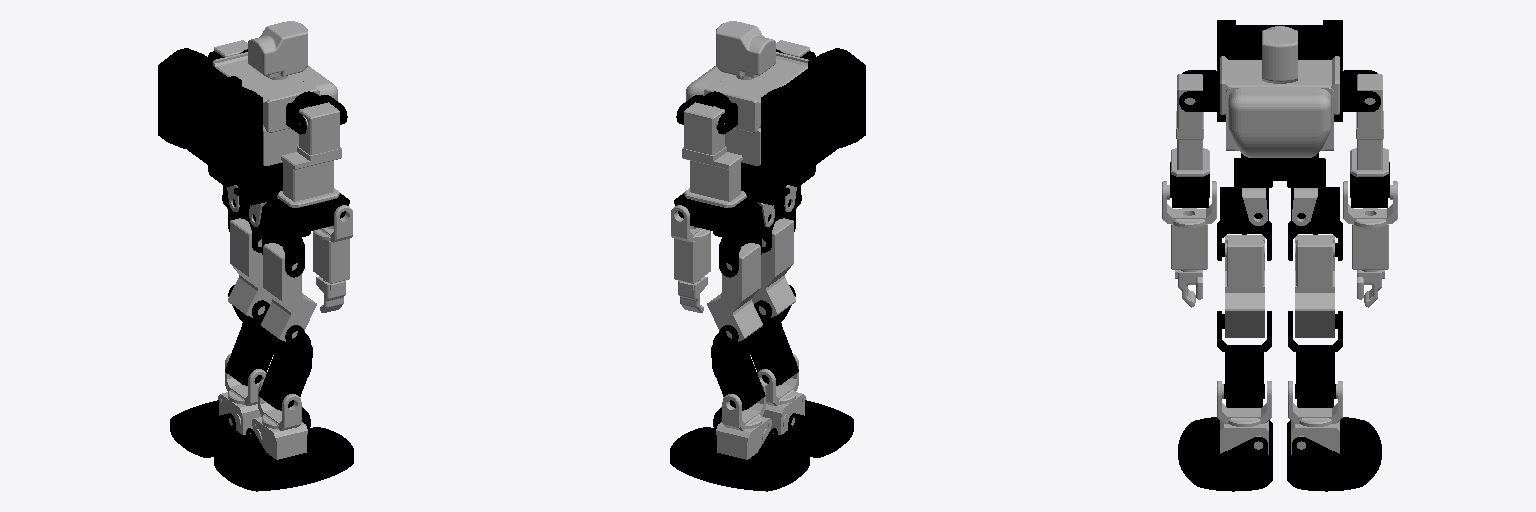
--- What the picture shows (computed from the rendered views, not written in the file) ---
The picture shows the robot from 3 angles, left to right: view 1: azimuth 30°, elevation 25°; view 2: azimuth 150°, elevation 25°; view 3: azimuth 270°, elevation 25°; orthographic projection.
Robot: khr3_001 — 26 links, 25 joints (22 revolute, 3 fixed); root link base_footprint; default pose: every joint at zero.
Links seen in each view (by area): view 1: c_chest_b, r_foot, r_upperarm, r_upperleg, r_lowerarm, l_foot, r_lowerleg, c_head_a, c_chest_c, r_ankle, l_upperleg, l_lowerleg (+7 smaller); view 2: c_chest_b, l_foot, l_upperarm, l_upperleg, l_lowerarm, r_foot, l_lowerleg, c_chest_c, c_head_a, l_ankle, r_upperleg, r_lowerleg (+7 smaller); view 3: c_chest_a, l_foot, r_foot, l_upperleg, r_upperleg, c_chest_b, l_lowerarm, r_lowerarm, l_lowerleg, r_lowerleg, c_chest_c, base_link (+13 smaller).
Link boxes in pixels (x1,y1,x2,y2): c_chest_b: (158,48,262,184); r_foot: (214,427,353,491); r_upperarm: (277,102,341,207); r_upperleg: (261,243,316,341); r_lowerarm: (313,205,352,312); l_foot: (170,400,310,457); r_lowerleg: (258,310,312,410); c_head_a: (248,21,307,79); c_chest_c: (213,52,319,132); r_ankle: (252,378,307,459); l_upperleg: (228,218,271,317); l_lowerleg: (225,285,275,385); c_chest_b: (761,48,865,184); l_foot: (670,427,809,491); l_upperarm: (682,102,746,207); l_upperleg: (707,243,762,341); l_lowerarm: (671,205,710,312); r_foot: (713,400,853,457); l_lowerleg: (711,310,765,410); c_chest_c: (704,52,808,132); c_head_a: (716,21,775,79); l_ankle: (716,378,771,459); r_upperleg: (752,218,795,317); r_lowerleg: (748,285,798,385); c_chest_a: (1226,87,1333,157); l_foot: (1287,417,1381,491); r_foot: (1178,417,1272,491); l_upperleg: (1295,235,1334,337); r_upperleg: (1225,235,1264,337); c_chest_b: (1217,20,1342,121); l_lowerarm: (1343,181,1397,307); r_lowerarm: (1162,181,1216,307); l_lowerleg: (1288,311,1342,407); r_lowerleg: (1217,311,1271,407); c_chest_c: (1220,56,1339,150); base_link: (1234,153,1325,187).
Size in the robot's own frame: 0.1356 by 0.1943 by 0.3987 metres.
25 mesh visuals loaded from 25 distinct referenced files (25 binary STL).

robot.urdf — khr3_001:
<?xml version="1.0" ?>
<!-- =================================================================================== -->
<!-- |    This document was autogenerated by xacro from khr3_001b.xacro                | -->
<!-- |    EDITING THIS FILE BY HAND IS NOT RECOMMENDED                                 | -->
<!-- =================================================================================== -->
<robot name="khr3_001">
  <material name="silver">
    <color rgba="0.700 0.700 0.700 1.000"/>
  </material>
  <material name="white">
    <color rgba="1.0 1.0 1.0 1.0"/>
  </material>
  <material name="black">
    <color rgba="0.0 0.0 0.0 1.0"/>
  </material>
  <transmission name="c_chest_yaw_tran" type="SimpleTransmission">
    <type>transmission_interface/SimpleTransmission</type>
    <joint name="c_chest_yaw">
      <hardwareInterface>hardware_interface/PositionJointInterface</hardwareInterface>
    </joint>
    <actuator name="c_chest_yaw_actr">
      <hardwareInterface>hardware_interface/PositionJointInterface</hardwareInterface>
      <mechanicalReduction>1</mechanicalReduction>
    </actuator>
  </transmission>
  <transmission name="c_head_yaw_tran" type="SimpleTransmission">
    <type>transmission_interface/SimpleTransmission</type>
    <joint name="c_head_yaw">
      <hardwareInterface>hardware_interface/PositionJointInterface</hardwareInterface>
    </joint>
    <actuator name="c_head_yaw_actr">
      <hardwareInterface>hardware_interface/PositionJointInterface</hardwareInterface>
      <mechanicalReduction>1</mechanicalReduction>
    </actuator>
  </transmission>
  <transmission name="l_shoulder_pitch_tran" type="SimpleTransmission">
    <type>transmission_interface/SimpleTransmission</type>
    <joint name="l_shoulder_pitch">
      <hardwareInterface>hardware_interface/PositionJointInterface</hardwareInterface>
    </joint>
    <actuator name="l_shoulder_pitch_actr">
      <hardwareInterface>hardware_interface/PositionJointInterface</hardwareInterface>
      <mechanicalReduction>1</mechanicalReduction>
    </actuator>
  </transmission>
  <transmission name="l_shoulder_roll_tran" type="SimpleTransmission">
    <type>transmission_interface/SimpleTransmission</type>
    <joint name="l_shoulder_roll">
      <hardwareInterface>hardware_interface/PositionJointInterface</hardwareInterface>
    </joint>
    <actuator name="l_shoulder_roll_actr">
      <hardwareInterface>hardware_interface/PositionJointInterface</hardwareInterface>
      <mechanicalReduction>1</mechanicalReduction>
    </actuator>
  </transmission>
  <transmission name="l_elbow_yaw_tran" type="SimpleTransmission">
    <type>transmission_interface/SimpleTransmission</type>
    <joint name="l_elbow_yaw">
      <hardwareInterface>hardware_interface/PositionJointInterface</hardwareInterface>
    </joint>
    <actuator name="l_elbow_yaw_actr">
      <hardwareInterface>hardware_interface/PositionJointInterface</hardwareInterface>
      <mechanicalReduction>1</mechanicalReduction>
    </actuator>
  </transmission>
  <transmission name="l_elbow_pitch_tran" type="SimpleTransmission">
    <type>transmission_interface/SimpleTransmission</type>
    <joint name="l_elbow_pitch">
      <hardwareInterface>hardware_interface/PositionJointInterface</hardwareInterface>
    </joint>
    <actuator name="l_elbow_pitch_actr">
      <hardwareInterface>hardware_interface/PositionJointInterface</hardwareInterface>
      <mechanicalReduction>1</mechanicalReduction>
    </actuator>
  </transmission>
  <transmission name="r_shoulder_pitch_tran" type="SimpleTransmission">
    <type>transmission_interface/SimpleTransmission</type>
    <joint name="r_shoulder_pitch">
      <hardwareInterface>hardware_interface/PositionJointInterface</hardwareInterface>
    </joint>
    <actuator name="r_shoulder_pitch_actr">
      <hardwareInterface>hardware_interface/PositionJointInterface</hardwareInterface>
      <mechanicalReduction>1</mechanicalReduction>
    </actuator>
  </transmission>
  <transmission name="r_shoulder_roll_tran" type="SimpleTransmission">
    <type>transmission_interface/SimpleTransmission</type>
    <joint name="r_shoulder_roll">
      <hardwareInterface>hardware_interface/PositionJointInterface</hardwareInterface>
    </joint>
    <actuator name="r_shoulder_roll_actr">
      <hardwareInterface>hardware_interface/PositionJointInterface</hardwareInterface>
      <mechanicalReduction>1</mechanicalReduction>
    </actuator>
  </transmission>
  <transmission name="r_elbow_yaw_tran" type="SimpleTransmission">
    <type>transmission_interface/SimpleTransmission</type>
    <joint name="r_elbow_yaw">
      <hardwareInterface>hardware_interface/PositionJointInterface</hardwareInterface>
    </joint>
    <actuator name="r_elbow_yaw_actr">
      <hardwareInterface>hardware_interface/PositionJointInterface</hardwareInterface>
      <mechanicalReduction>1</mechanicalReduction>
    </actuator>
  </transmission>
  <transmission name="r_elbow_pitch_tran" type="SimpleTransmission">
    <type>transmission_interface/SimpleTransmission</type>
    <joint name="r_elbow_pitch">
      <hardwareInterface>hardware_interface/PositionJointInterface</hardwareInterface>
    </joint>
    <actuator name="r_elbow_pitch_actr">
      <hardwareInterface>hardware_interface/PositionJointInterface</hardwareInterface>
      <mechanicalReduction>1</mechanicalReduction>
    </actuator>
  </transmission>
  <transmission name="l_hipjoint_yaw_tran" type="SimpleTransmission">
    <type>transmission_interface/SimpleTransmission</type>
    <joint name="l_hipjoint_yaw">
      <hardwareInterface>hardware_interface/PositionJointInterface</hardwareInterface>
    </joint>
    <actuator name="l_hipjoint_yaw_actr">
      <hardwareInterface>hardware_interface/PositionJointInterface</hardwareInterface>
      <mechanicalReduction>1</mechanicalReduction>
    </actuator>
  </transmission>
  <transmission name="l_hipjoint_roll_tran" type="SimpleTransmission">
    <type>transmission_interface/SimpleTransmission</type>
    <joint name="l_hipjoint_roll">
      <hardwareInterface>hardware_interface/PositionJointInterface</hardwareInterface>
    </joint>
    <actuator name="l_hipjoint_roll_actr">
      <hardwareInterface>hardware_interface/PositionJointInterface</hardwareInterface>
      <mechanicalReduction>1</mechanicalReduction>
    </actuator>
  </transmission>
  <transmission name="l_hipjoint_pitch_tran" type="SimpleTransmission">
    <type>transmission_interface/SimpleTransmission</type>
    <joint name="l_hipjoint_pitch">
      <hardwareInterface>hardware_interface/PositionJointInterface</hardwareInterface>
    </joint>
    <actuator name="l_hipjoint_pitch_actr">
      <hardwareInterface>hardware_interface/PositionJointInterface</hardwareInterface>
      <mechanicalReduction>1</mechanicalReduction>
    </actuator>
  </transmission>
  <transmission name="l_knee_pitch_tran" type="SimpleTransmission">
    <type>transmission_interface/SimpleTransmission</type>
    <joint name="l_knee_pitch">
      <hardwareInterface>hardware_interface/PositionJointInterface</hardwareInterface>
    </joint>
    <actuator name="l_knee_pitch_actr">
      <hardwareInterface>hardware_interface/PositionJointInterface</hardwareInterface>
      <mechanicalReduction>1</mechanicalReduction>
    </actuator>
  </transmission>
  <transmission name="l_ankle_pitch_tran" type="SimpleTransmission">
    <type>transmission_interface/SimpleTransmission</type>
    <joint name="l_ankle_pitch">
      <hardwareInterface>hardware_interface/PositionJointInterface</hardwareInterface>
    </joint>
    <actuator name="l_ankle_pitch_actr">
      <hardwareInterface>hardware_interface/PositionJointInterface</hardwareInterface>
      <mechanicalReduction>1</mechanicalReduction>
    </actuator>
  </transmission>
  <transmission name="l_ankle_roll_tran" type="SimpleTransmission">
    <type>transmission_interface/SimpleTransmission</type>
    <joint name="l_ankle_roll">
      <hardwareInterface>hardware_interface/PositionJointInterface</hardwareInterface>
    </joint>
    <actuator name="l_ankle_roll_actr">
      <hardwareInterface>hardware_interface/PositionJointInterface</hardwareInterface>
      <mechanicalReduction>1</mechanicalReduction>
    </actuator>
  </transmission>
  <transmission name="r_hipjoint_yaw_tran" type="SimpleTransmission">
    <type>transmission_interface/SimpleTransmission</type>
    <joint name="r_hipjoint_yaw">
      <hardwareInterface>hardware_interface/PositionJointInterface</hardwareInterface>
    </joint>
    <actuator name="r_hipjoint_yaw_actr">
      <hardwareInterface>hardware_interface/PositionJointInterface</hardwareInterface>
      <mechanicalReduction>1</mechanicalReduction>
    </actuator>
  </transmission>
  <transmission name="r_hipjoint_roll_tran" type="SimpleTransmission">
    <type>transmission_interface/SimpleTransmission</type>
    <joint name="r_hipjoint_roll">
      <hardwareInterface>hardware_interface/PositionJointInterface</hardwareInterface>
    </joint>
    <actuator name="r_hipjoint_roll_actr">
      <hardwareInterface>hardware_interface/PositionJointInterface</hardwareInterface>
      <mechanicalReduction>1</mechanicalReduction>
    </actuator>
  </transmission>
  <transmission name="r_hipjoint_pitch_tran" type="SimpleTransmission">
    <type>transmission_interface/SimpleTransmission</type>
    <joint name="r_hipjoint_pitch">
      <hardwareInterface>hardware_interface/PositionJointInterface</hardwareInterface>
    </joint>
    <actuator name="r_hipjoint_pitch_actr">
      <hardwareInterface>hardware_interface/PositionJointInterface</hardwareInterface>
      <mechanicalReduction>1</mechanicalReduction>
    </actuator>
  </transmission>
  <transmission name="r_knee_pitch_tran" type="SimpleTransmission">
    <type>transmission_interface/SimpleTransmission</type>
    <joint name="r_knee_pitch">
      <hardwareInterface>hardware_interface/PositionJointInterface</hardwareInterface>
    </joint>
    <actuator name="r_knee_pitch_actr">
      <hardwareInterface>hardware_interface/PositionJointInterface</hardwareInterface>
      <mechanicalReduction>1</mechanicalReduction>
    </actuator>
  </transmission>
  <transmission name="r_ankle_pitch_tran" type="SimpleTransmission">
    <type>transmission_interface/SimpleTransmission</type>
    <joint name="r_ankle_pitch">
      <hardwareInterface>hardware_interface/PositionJointInterface</hardwareInterface>
    </joint>
    <actuator name="r_ankle_pitch_actr">
      <hardwareInterface>hardware_interface/PositionJointInterface</hardwareInterface>
      <mechanicalReduction>1</mechanicalReduction>
    </actuator>
  </transmission>
  <transmission name="r_ankle_roll_tran" type="SimpleTransmission">
    <type>transmission_interface/SimpleTransmission</type>
    <joint name="r_ankle_roll">
      <hardwareInterface>hardware_interface/PositionJointInterface</hardwareInterface>
    </joint>
    <actuator name="r_ankle_roll_actr">
      <hardwareInterface>hardware_interface/PositionJointInterface</hardwareInterface>
      <mechanicalReduction>1</mechanicalReduction>
    </actuator>
  </transmission>
  <!-- <gazebo>
  <plugin name="control" filename="libgazebo_ros_control.so"/>
</gazebo> -->
  <gazebo>
    <!-- Do I have to write it down? -->
    <plugin filename="libgazebo_ros_control.so" name="gazebo_ros_control">
      <robotNamespace>/khr3_001</robotNamespace>
      <robotSimType>gazebo_ros_control/DefaultRobotHWSim</robotSimType>
    </plugin>
  </gazebo>
  <gazebo reference="base_link">
    <material>Gazebo/Silver</material>
    <mu1>0.2</mu1>
    <mu2>0.2</mu2>
    <selfCollide>true</selfCollide>
    <gravity>true</gravity>
  </gazebo>
  <gazebo reference="c_chest_c">
    <material>Gazebo/Silver</material>
    <mu1>0.2</mu1>
    <mu2>0.2</mu2>
    <selfCollide>true</selfCollide>
  </gazebo>
  <gazebo reference="c_chest_b">
    <material>Gazebo/Silver</material>
    <mu1>0.2</mu1>
    <mu2>0.2</mu2>
    <selfCollide>true</selfCollide>
  </gazebo>
  <gazebo reference="c_chest_a">
    <material>Gazebo/Silver</material>
    <mu1>0.2</mu1>
    <mu2>0.2</mu2>
    <selfCollide>true</selfCollide>
  </gazebo>
  <gazebo reference="c_head_a">
    <material>Gazebo/Silver</material>
    <mu1>0.2</mu1>
    <mu2>0.2</mu2>
    <selfCollide>true</selfCollide>
  </gazebo>
  <gazebo reference="l_shoulder">
    <material>Gazebo/Silver</material>
    <mu1>0.2</mu1>
    <mu2>0.2</mu2>
    <selfCollide>true</selfCollide>
  </gazebo>
  <gazebo reference="l_upperarm">
    <material>Gazebo/Silver</material>
    <mu1>0.2</mu1>
    <mu2>0.2</mu2>
    <selfCollide>true</selfCollide>
  </gazebo>
  <gazebo reference="l_elbow">
    <material>Gazebo/Silver</material>
    <mu1>0.2</mu1>
    <mu2>0.2</mu2>
    <selfCollide>true</selfCollide>
  </gazebo>
  <gazebo reference="l_lowerarm">
    <material>Gazebo/Silver</material>
    <mu1>0.2</mu1>
    <mu2>0.2</mu2>
    <selfCollide>true</selfCollide>
  </gazebo>
  <gazebo reference="r_shoulder">
    <material>Gazebo/Silver</material>
    <mu1>0.2</mu1>
    <mu2>0.2</mu2>
    <selfCollide>true</selfCollide>
  </gazebo>
  <gazebo reference="r_upperarm">
    <material>Gazebo/Silver</material>
    <mu1>0.2</mu1>
    <mu2>0.2</mu2>
    <selfCollide>true</selfCollide>
  </gazebo>
  <gazebo reference="r_elbow">
    <material>Gazebo/Silver</material>
    <mu1>0.2</mu1>
    <mu2>0.2</mu2>
    <selfCollide>true</selfCollide>
  </gazebo>
  <gazebo reference="r_lowerarm">
    <material>Gazebo/Silver</material>
    <mu1>0.2</mu1>
    <mu2>0.2</mu2>
    <selfCollide>true</selfCollide>
  </gazebo>
  <gazebo reference="l_hipjointupper">
    <material>Gazebo/Silver</material>
    <mu1>0.2</mu1>
    <mu2>0.2</mu2>
    <selfCollide>true</selfCollide>
  </gazebo>
  <gazebo reference="l_hipjointlower">
    <material>Gazebo/Silver</material>
    <mu1>0.2</mu1>
    <mu2>0.2</mu2>
    <selfCollide>true</selfCollide>
  </gazebo>
  <gazebo reference="l_upperleg">
    <material>Gazebo/Silver</material>
    <mu1>0.2</mu1>
    <mu2>0.2</mu2>
    <selfCollide>true</selfCollide>
  </gazebo>
  <gazebo reference="l_lowerleg">
    <material>Gazebo/Silver</material>
    <mu1>0.2</mu1>
    <mu2>0.2</mu2>
    <selfCollide>true</selfCollide>
  </gazebo>
  <gazebo reference="l_ankle">
    <material>Gazebo/Silver</material>
    <mu1>0.2</mu1>
    <mu2>0.2</mu2>
    <selfCollide>true</selfCollide>
  </gazebo>
  <gazebo reference="l_foot">
    <material>Gazebo/Silver</material>
    <mu1>1</mu1>
    <mu2>1</mu2>
    <selfCollide>true</selfCollide>
  </gazebo>
  <gazebo reference="r_hipjointupper">
    <material>Gazebo/Silver</material>
    <mu1>0.2</mu1>
    <mu2>0.2</mu2>
    <selfCollide>true</selfCollide>
  </gazebo>
  <gazebo reference="r_hipjointlower">
    <material>Gazebo/Silver</material>
    <mu1>0.2</mu1>
    <mu2>0.2</mu2>
    <selfCollide>true</selfCollide>
  </gazebo>
  <gazebo reference="r_upperleg">
    <material>Gazebo/Silver</material>
    <mu1>0.2</mu1>
    <mu2>0.2</mu2>
    <selfCollide>true</selfCollide>
  </gazebo>
  <gazebo reference="r_lowerleg">
    <material>Gazebo/Silver</material>
    <mu1>0.2</mu1>
    <mu2>0.2</mu2>
    <selfCollide>true</selfCollide>
  </gazebo>
  <gazebo reference="r_ankle">
    <material>Gazebo/Silver</material>
    <mu1>0.2</mu1>
    <mu2>0.2</mu2>
    <selfCollide>true</selfCollide>
  </gazebo>
  <gazebo reference="r_foot">
    <material>Gazebo/Silver</material>
    <mu1>1</mu1>
    <mu2>1</mu2>
    <selfCollide>true</selfCollide>
  </gazebo>
  <!-- Description of robot -->
  <link name="base_footprint">
  </link>
  <link name="base_link">
    <inertial>
      <origin rpy="0 0 0" xyz="-0.0004860989233068058 0.009532810756286874 0.01338898"/>
      <mass value="0.26484"/>
      <inertia ixx="6.3e-05" ixy="0.0" ixz="-0.0" iyy="3.6e-05" iyz="-0.0" izz="6.8e-05"/>
    </inertial>
    <visual>
      <origin rpy="0 0 0" xyz="0 0 0"/>
      <geometry>
        <mesh filename="package://khr3_fixed/meshes/base_link.stl" scale="0.001 0.001 0.001"/>
      </geometry>
      <material name="black"/>
    </visual>
    <collision>
      <origin rpy="0 0 0" xyz="0 0 0"/>
      <geometry>
        <mesh filename="package://khr3_fixed/meshes/base_link.stl" scale="0.001 0.001 0.001"/>
      </geometry>
    </collision>
  </link>
  <link name="c_chest_c">
    <inertial>
      <origin rpy="0 0 0" xyz="-9.07564737343998e-05 -4.299695898109246e-08 0.04371354326547944"/>
      <mass value="0.18589"/>
      <inertia ixx="0.000158" ixy="0.0" ixz="0.0" iyy="6.6e-05" iyz="-0.0" izz="0.000176"/>
    </inertial>
    <visual>
      <origin rpy="0 0 0" xyz="0 0 0"/>
      <geometry>
        <mesh filename="package://khr3_fixed/meshes/c_chest_c.stl" scale="0.001 0.001 0.001"/>
      </geometry>
      <material name="silver"/>
    </visual>
    <collision>
      <origin rpy="0 0 0" xyz="0 0 0"/>
      <geometry>
        <mesh filename="package://khr3_fixed/meshes/c_chest_c.stl" scale="0.001 0.001 0.001"/>
      </geometry>
    </collision>
  </link>
  <link name="c_chest_b">
    <inertial>
      <origin rpy="0 0 0" xyz="-0.027362562372520854 2.840518613928325e-06 0.004477857770456339"/>
      <mass value="0.08659748664099903"/>
      <inertia ixx="0.000118" ixy="0.0" ixz="0.0" iyy="5.2e-05" iyz="0.0" izz="9.8e-05"/>
    </inertial>
    <visual>
      <origin rpy="0 0 0" xyz="0 0 0"/>
      <geometry>
        <mesh filename="package://khr3_fixed/meshes/c_chest_b.stl" scale="0.001 0.001 0.001"/>
      </geometry>
      <material name="black"/>
    </visual>
    <collision>
      <origin rpy="0 0 0" xyz="0 0 0"/>
      <geometry>
        <mesh filename="package://khr3_fixed/meshes/c_chest_b.stl" scale="0.001 0.001 0.001"/>
      </geometry>
    </collision>
  </link>
  <link name="c_chest_a">
    <inertial>
      <origin rpy="0 0 0" xyz="0.004546800382866728 -4.1161282904669805e-08 -0.0024788373011201403"/>
      <mass value="0.033763915303500654"/>
      <inertia ixx="3.4e-05" ixy="-0.0" ixz="-3e-06" iyy="1.9e-05" iyz="0.0" izz="3.6e-05"/>
    </inertial>
    <visual>
      <origin rpy="0 0 0" xyz="0 0 0"/>
      <geometry>
        <mesh filename="package://khr3_fixed/meshes/c_chest_a.stl" scale="0.001 0.001 0.001"/>
      </geometry>
      <material name="silver"/>
    </visual>
    <collision>
      <origin rpy="0 0 0" xyz="0 0 0"/>
      <geometry>
        <mesh filename="package://khr3_fixed/meshes/c_chest_a.stl" scale="0.001 0.001 0.001"/>
      </geometry>
    </collision>
  </link>
  <link name="c_head_a">
    <inertial>
      <origin rpy="0 0 0" xyz="0.003079433021973575 -4.3073247395913894e-08 0.022888877386975093"/>
      <mass value="0.012778861662402228"/>
      <inertia ixx="2e-06" ixy="-0.0" ixz="-0.0" iyy="4e-06" iyz="0.0" izz="3e-06"/>
    </inertial>
    <visual>
      <origin rpy="0 0 0" xyz="0 0 0"/>
      <geometry>
        <mesh filename="package://khr3_fixed/meshes/c_head_a.stl" scale="0.001 0.001 0.001"/>
      </geometry>
      <material name="silver"/>
    </visual>
    <collision>
      <origin rpy="0 0 0" xyz="0 0 0"/>
      <geometry>
        <mesh filename="package://khr3_fixed/meshes/c_head_a.stl" scale="0.001 0.001 0.001"/>
      </geometry>
    </collision>
  </link>
  <link name="l_shoulder">
    <inertial>
      <origin rpy="0 0 0" xyz="0.00016940373751364937 0.008747288709026461 3.2529534621517087e-14"/>
      <mass value="0.012120367829212707"/>
      <inertia ixx="1e-06" ixy="-0.0" ixz="0.0" iyy="4e-06" iyz="0.0" izz="4e-06"/>
    </inertial>
    <visual>
      <origin rpy="0 0 0" xyz="0 0 0"/>
      <geometry>
        <mesh filename="package://khr3_fixed/meshes/l_shoulder_v5.stl" scale="0.001 0.001 0.001"/>
      </geometry>
      <material name="black"/>
    </visual>
    <collision>
      <origin rpy="0 0 0" xyz="0 0 0"/>
      <geometry>
        <mesh filename="package://khr3_fixed/meshes/l_shoulder_v5.stl" scale="0.001 0.001 0.001"/>
      </geometry>
    </collision>
  </link>
  <link name="l_upperarm">
    <inertial>
      <origin rpy="0 0 0" xyz="-0.02256531849252991 -4.2996961130414846e-08 -0.03564584515249991"/>
      <mass value="0.09077338253436838"/>
      <inertia ixx="5.4e-05" ixy="0.0" ixz="-1e-05" iyy="6.4e-05" iyz="0.0" izz="1.8e-05"/>
    </inertial>
    <visual>
      <origin rpy="0 0 0" xyz="0 0 0"/>
      <geometry>
        <mesh filename="package://khr3_fixed/meshes/l_upperarm_v4.stl" scale="0.001 0.001 0.001"/>
      </geometry>
      <material name="silver"/>
    </visual>
    <collision>
      <origin rpy="0 0 0" xyz="0 0 0"/>
      <geometry>
        <mesh filename="package://khr3_fixed/meshes/l_upperarm_v4.stl" scale="0.001 0.001 0.001"/>
      </geometry>
    </collision>
  </link>
  <link name="l_elbow">
    <inertial>
      <origin rpy="0 0 0" xyz="5.745484729775818e-05 -4.299695875731313e-08 -0.012574921301198305"/>
      <mass value="0.044771268874731644"/>
      <inertia ixx="6e-06" ixy="0.0" ixz="0.0" iyy="8e-06" iyz="-0.0" izz="1e-05"/>
    </inertial>
    <visual>
      <origin rpy="0 0 0" xyz="0 0 0"/>
      <geometry>
        <mesh filename="package://khr3_fixed/meshes/l_elbow_v4.stl" scale="0.001 0.001 0.001"/>
      </geometry>
      <material name="black"/>
    </visual>
    <collision>
      <origin rpy="0 0 0" xyz="0 0 0"/>
      <geometry>
        <mesh filename="package://khr3_fixed/meshes/l_elbow_v4.stl" scale="0.001 0.001 0.001"/>
      </geometry>
    </collision>
  </link>
  <link name="l_lowerarm">
    <inertial>
      <origin rpy="0 0 0" xyz="0.00017641899363149416 -0.0156924274010031 -0.04569649848488025"/>
      <mass value="0.02983803452815617"/>
      <inertia ixx="1.8e-05" ixy="0.0" ixz="0.0" iyy="1.6e-05" iyz="-0.0" izz="4e-06"/>
    </inertial>
    <visual>
      <origin rpy="0 0 0" xyz="0 0 0"/>
      <geometry>
        <mesh filename="package://khr3_fixed/meshes/l_lowerarm_v7.stl" scale="0.001 0.001 0.001"/>
      </geometry>
      <material name="silver"/>
    </visual>
    <collision>
      <origin rpy="0 0 0" xyz="0 0 0"/>
      <geometry>
        <mesh filename="package://khr3_fixed/meshes/l_lowerarm_v7.stl" scale="0.001 0.001 0.001"/>
      </geometry>
    </collision>
  </link>
  <link name="r_shoulder">
    <inertial>
      <origin rpy="0 0 0" xyz="0.00016940373733528857 -0.008747374702943796 5.306866057708248e-14"/>
      <mass value="0.01212036782921271"/>
      <inertia ixx="1e-06" ixy="0.0" ixz="-0.0" iyy="4e-06" iyz="0.0" izz="4e-06"/>
    </inertial>
    <visual>
      <origin rpy="0 0 0" xyz="0 0 0"/>
      <geometry>
        <mesh filename="package://khr3_fixed/meshes/r_shoulder_v4.stl" scale="0.001 0.001 0.001"/>
      </geometry>
      <material name="black"/>
    </visual>
    <collision>
      <origin rpy="0 0 0" xyz="0 0 0"/>
      <geometry>
        <mesh filename="package://khr3_fixed/meshes/r_shoulder_v4.stl" scale="0.001 0.001 0.001"/>
      </geometry>
    </collision>
  </link>
  <link name="r_upperarm">
    <inertial>
      <origin rpy="0 0 0" xyz="-0.022565318492529688 -4.2996961074903695e-08 -0.03564584515249991"/>
      <mass value="0.09077338253436838"/>
      <inertia ixx="5.4e-05" ixy="0.0" ixz="-1e-05" iyy="6.4e-05" iyz="0.0" izz="1.8e-05"/>
    </inertial>
    <visual>
      <origin rpy="0 0 0" xyz="0 0 0"/>
      <geometry>
        <mesh filename="package://khr3_fixed/meshes/r_upperarm_v3.stl" scale="0.001 0.001 0.001"/>
      </geometry>
      <material name="silver"/>
    </visual>
    <collision>
      <origin rpy="0 0 0" xyz="0 0 0"/>
      <geometry>
        <mesh filename="package://khr3_fixed/meshes/r_upperarm_v3.stl" scale="0.001 0.001 0.001"/>
      </geometry>
    </collision>
  </link>
  <link name="r_elbow">
    <inertial>
      <origin rpy="0 0 0" xyz="5.7454847330103836e-05 -4.2996958674046404e-08 -0.012574921301198305"/>
      <mass value="0.044771268874731526"/>
      <inertia ixx="6e-06" ixy="0.0" ixz="0.0" iyy="8e-06" iyz="-0.0" izz="1e-05"/>
    </inertial>
    <visual>
      <origin rpy="0 0 0" xyz="0 0 0"/>
      <geometry>
        <mesh filename="package://khr3_fixed/meshes/r_elbow_v4.stl" scale="0.001 0.001 0.001"/>
      </geometry>
      <material name="black"/>
    </visual>
    <collision>
      <origin rpy="0 0 0" xyz="0 0 0"/>
      <geometry>
        <mesh filename="package://khr3_fixed/meshes/r_elbow_v4.stl" scale="0.001 0.001 0.001"/>
      </geometry>
    </collision>
  </link>
  <link name="r_lowerarm">
    <inertial>
      <origin rpy="0 0 0" xyz="0.00017641899364317232 0.01569234140705124 -0.04569649848495705"/>
      <mass value="0.029838034528201704"/>
      <inertia ixx="1.8e-05" ixy="-0.0" ixz="0.0" iyy="1.6e-05" iyz="0.0" izz="4e-06"/>
    </inertial>
    <visual>
      <origin rpy="0 0 0" xyz="0 0 0"/>
      <geometry>
        <mesh filename="package://khr3_fixed/meshes/r_lowerarm_v5.stl" scale="0.001 0.001 0.001"/>
      </geometry>
      <material name="silver"/>
    </visual>
    <collision>
      <origin rpy="0 0 0" xyz="0 0 0"/>
      <geometry>
        <mesh filename="package://khr3_fixed/meshes/r_lowerarm_v5.stl" scale="0.001 0.001 0.001"/>
      </geometry>
    </collision>
  </link>
  <link name="l_hipjointupper">
    <inertial>
      <origin rpy="0 0 0" xyz="3.293764515496962e-05 -0.0011113374509284651 -0.007400199793976242"/>
      <mass value="0.005702042499396512"/>
      <inertia ixx="1e-06" ixy="0.0" ixz="0.0" iyy="2e-06" iyz="-0.0" izz="2e-06"/>
    </inertial>
    <visual>
      <origin rpy="0 0 0" xyz="0 0 0"/>
      <geometry>
        <mesh filename="package://khr3_fixed/meshes/l_hipjointupper_v4.stl" scale="0.001 0.001 0.001"/>
      </geometry>
      <material name="silver"/>
    </visual>
    <collision>
      <origin rpy="0 0 0" xyz="0 0 0"/>
      <geometry>
        <mesh filename="package://khr3_fixed/meshes/l_hipjointupper_v4.stl" scale="0.001 0.001 0.001"/>
      </geometry>
    </collision>
  </link>
  <link name="l_hipjointlower">
    <inertial>
      <origin rpy="0 0 0" xyz="-0.016250242301438553 0.011463181378816707 -0.0066539419866288585"/>
      <mass value="0.06689532645492419"/>
      <inertia ixx="2e-05" ixy="0.0" ixz="-0.0" iyy="1.4e-05" iyz="0.0" izz="1.5e-05"/>
    </inertial>
    <visual>
      <origin rpy="0 0 0" xyz="0 0 0"/>
      <geometry>
        <mesh filename="package://khr3_fixed/meshes/l_hipjointlower_v4.stl" scale="0.001 0.001 0.001"/>
      </geometry>
      <material name="black"/>
    </visual>
    <collision>
      <origin rpy="0 0 0" xyz="0 0 0"/>
      <geometry>
        <mesh filename="package://khr3_fixed/meshes/l_hipjointlower_v4.stl" scale="0.001 0.001 0.001"/>
      </geometry>
    </collision>
  </link>
  <link name="l_upperleg">
    <inertial>
      <origin rpy="0 0 0" xyz="0.002589780466551929 -0.016500042996958703 -0.03375567398425394"/>
      <mass value="0.09097466003274825"/>
      <inertia ixx="5.9e-05" ixy="0.0" ixz="4e-06" iyy="5.6e-05" iyz="0.0" izz="1.3e-05"/>
    </inertial>
    <visual>
      <origin rpy="0 0 0" xyz="0 0 0"/>
      <geometry>
        <mesh filename="package://khr3_fixed/meshes/l_upperleg_v3.stl" scale="0.001 0.001 0.001"/>
      </geometry>
      <material name="silver"/>
    </visual>
    <collision>
      <origin rpy="0 0 0" xyz="0 0 0"/>
      <geometry>
        <mesh filename="package://khr3_fixed/meshes/l_upperleg_v3.stl" scale="0.001 0.001 0.001"/>
      </geometry>
    </collision>
  </link>
  <link name="l_lowerleg">
    <inertial>
      <origin rpy="0 0 0" xyz="0.0044805681524230055 -0.015970110512676966 -0.04182100713444817"/>
      <mass value="0.06094435150357522"/>
      <inertia ixx="2.9e-05" ixy="0.0" ixz="-5e-06" iyy="2.6e-05" iyz="-0.0" izz="1.1e-05"/>
    </inertial>
    <visual>
      <origin rpy="0 0 0" xyz="0 0 0"/>
      <geometry>
        <mesh filename="package://khr3_fixed/meshes/l_lowerleg_v5.stl" scale="0.001 0.001 0.001"/>
      </geometry>
      <material name="black"/>
    </visual>
    <collision>
      <origin rpy="0 0 0" xyz="0 0 0"/>
      <geometry>
        <mesh filename="package://khr3_fixed/meshes/l_lowerleg_v5.stl" scale="0.001 0.001 0.001"/>
      </geometry>
    </collision>
  </link>
  <link name="l_ankle">
    <inertial>
      <origin rpy="0 0 0" xyz="0.0001886240331466279 -0.01666391069306302 -0.03292964719213733"/>
      <mass value="0.06757551562559608"/>
      <inertia ixx="2e-05" ixy="0.0" ixz="0.0" iyy="1.4e-05" iyz="-0.0" izz="1.6e-05"/>
    </inertial>
    <visual>
      <origin rpy="0 0 0" xyz="0 0 0"/>
      <geometry>
        <mesh filename="package://khr3_fixed/meshes/l_ankle_v5.stl" scale="0.001 0.001 0.001"/>
      </geometry>
      <material name="silver"/>
    </visual>
    <collision>
      <origin rpy="0 0 0" xyz="0 0 0"/>
      <geometry>
        <mesh filename="package://khr3_fixed/meshes/l_ankle_v5.stl" scale="0.001 0.001 0.001"/>
      </geometry>
    </collision>
  </link>
  <link name="l_foot">
    <inertial>
      <origin rpy="0 0 0" xyz="-0.020700151207673705 0.023895172544662873 -0.021244534057561063"/>
      <mass value="0.03847104970565043"/>
      <inertia ixx="2.3e-05" ixy="-0.0" ixz="0.0" iyy="4.8e-05" iyz="0.0" izz="6.9e-05"/>
    </inertial>
    <visual>
      <origin rpy="0 0 0" xyz="0 0 0"/>
      <geometry>
        <mesh filename="package://khr3_fixed/meshes/l_foot_v3.stl" scale="0.001 0.001 0.001"/>
      </geometry>
      <material name="black"/>
    </visual>
    <collision>
      <origin rpy="0 0 0" xyz="0 0 0"/>
      <geometry>
        <mesh filename="package://khr3_fixed/meshes/l_foot_v3.stl" scale="0.001 0.001 0.001"/>
      </geometry>
    </collision>
  </link>
  <link name="r_hipjointupper">
    <inertial>
      <origin rpy="0 0 0" xyz="3.2937645155054623e-05 0.0011112514569246185 -0.007400199793976325"/>
      <mass value="0.005702042499396526"/>
      <inertia ixx="1e-06" ixy="-0.0" ixz="0.0" iyy="2e-06" iyz="0.0" izz="2e-06"/>
    </inertial>
    <visual>
      <origin rpy="0 0 0" xyz="0 0 0"/>
      <geometry>
        <mesh filename="package://khr3_fixed/meshes/r_hipjointupper_v4.stl" scale="0.001 0.001 0.001"/>
      </geometry>
      <material name="silver"/>
    </visual>
    <collision>
      <origin rpy="0 0 0" xyz="0 0 0"/>
      <geometry>
        <mesh filename="package://khr3_fixed/meshes/r_hipjointupper_v4.stl" scale="0.001 0.001 0.001"/>
      </geometry>
    </collision>
  </link>
  <link name="r_hipjointlower">
    <inertial>
      <origin rpy="0 0 0" xyz="-0.016250242301436166 -0.011463267372574608 -0.006653941986625556"/>
      <mass value="0.0668953264549242"/>
      <inertia ixx="2e-05" ixy="0.0" ixz="0.0" iyy="1.4e-05" iyz="-0.0" izz="1.5e-05"/>
    </inertial>
    <visual>
      <origin rpy="0 0 0" xyz="0 0 0"/>
      <geometry>
        <mesh filename="package://khr3_fixed/meshes/r_hipjointlower_v4.stl" scale="0.001 0.001 0.001"/>
      </geometry>
      <material name="black"/>
    </visual>
    <collision>
      <origin rpy="0 0 0" xyz="0 0 0"/>
      <geometry>
        <mesh filename="package://khr3_fixed/meshes/r_hipjointlower_v4.stl" scale="0.001 0.001 0.001"/>
      </geometry>
    </collision>
  </link>
  <link name="r_upperleg">
    <inertial>
      <origin rpy="0 0 0" xyz="0.0025897804665520278 0.016499957003041386 -0.03375567398425397"/>
      <mass value="0.09097466003274823"/>
      <inertia ixx="5.9e-05" ixy="-0.0" ixz="4e-06" iyy="5.6e-05" iyz="0.0" izz="1.3e-05"/>
    </inertial>
    <visual>
      <origin rpy="0 0 0" xyz="0 0 0"/>
      <geometry>
        <mesh filename="package://khr3_fixed/meshes/r_upperleg_v3.stl" scale="0.001 0.001 0.001"/>
      </geometry>
      <material name="silver"/>
    </visual>
    <collision>
      <origin rpy="0 0 0" xyz="0 0 0"/>
      <geometry>
        <mesh filename="package://khr3_fixed/meshes/r_upperleg_v3.stl" scale="0.001 0.001 0.001"/>
      </geometry>
    </collision>
  </link>
  <link name="r_lowerleg">
    <inertial>
      <origin rpy="0 0 0" xyz="0.004480568152423165 0.01597002451875967 -0.04182100713444818"/>
      <mass value="0.06094435150357523"/>
      <inertia ixx="2.9e-05" ixy="-0.0" ixz="-5e-06" iyy="2.6e-05" iyz="0.0" izz="1.1e-05"/>
    </inertial>
    <visual>
      <origin rpy="0 0 0" xyz="0 0 0"/>
      <geometry>
        <mesh filename="package://khr3_fixed/meshes/r_lowerleg_v5.stl" scale="0.001 0.001 0.001"/>
      </geometry>
      <material name="black"/>
    </visual>
    <collision>
      <origin rpy="0 0 0" xyz="0 0 0"/>
      <geometry>
        <mesh filename="package://khr3_fixed/meshes/r_lowerleg_v5.stl" scale="0.001 0.001 0.001"/>
      </geometry>
    </collision>
  </link>
  <link name="r_ankle">
    <inertial>
      <origin rpy="0 0 0" xyz="0.00018862403314765484 0.01666382469921859 -0.03292964719213813"/>
      <mass value="0.06757551562559609"/>
      <inertia ixx="2e-05" ixy="-0.0" ixz="0.0" iyy="1.4e-05" iyz="0.0" izz="1.6e-05"/>
    </inertial>
    <visual>
      <origin rpy="0 0 0" xyz="0 0 0"/>
      <geometry>
        <mesh filename="package://khr3_fixed/meshes/r_ankle_v5.stl" scale="0.001 0.001 0.001"/>
      </geometry>
      <material name="silver"/>
    </visual>
    <collision>
      <origin rpy="0 0 0" xyz="0 0 0"/>
      <geometry>
        <mesh filename="package://khr3_fixed/meshes/r_ankle_v5.stl" scale="0.001 0.001 0.001"/>
      </geometry>
    </collision>
  </link>
  <link name="r_foot">
    <inertial>
      <origin rpy="0 0 0" xyz="-0.020700151207566492 -0.023895258538579878 -0.02124453405755709"/>
      <mass value="0.03847104970565037"/>
      <inertia ixx="2.3e-05" ixy="-0.0" ixz="-0.0" iyy="4.8e-05" iyz="-0.0" izz="6.9e-05"/>
    </inertial>
    <visual>
      <origin rpy="0 0 0" xyz="0 0 0"/>
      <geometry>
        <mesh filename="package://khr3_fixed/meshes/r_foot_v3.stl" scale="0.001 0.001 0.001"/>
      </geometry>
      <material name="black"/>
    </visual>
    <collision>
      <origin rpy="0 0 0" xyz="0 0 0"/>
      <geometry>
        <mesh filename="package://khr3_fixed/meshes/r_foot_v3.stl" scale="0.001 0.001 0.001"/>
      </geometry>
    </collision>
  </link>
  <!-- continuous <-> revolute -->
  <joint name="floating_joint" type="fixed">
    <parent link="base_footprint"/>
    <child link="base_link"/>
    <origin rpy="0 0 0" xyz="0 0 0.257663"/>
  </joint>
  <joint name="c_chest_yaw" type="revolute">
    <origin rpy="0 0 0" xyz="0 0 0.039"/>
    <parent link="base_link"/>
    <child link="c_chest_c"/>
    <axis xyz="0.0 -0.0 1.0"/>
    <limit effort="1.373" lower="-0.6981317008" upper="0.6981317008" velocity="10.0"/>
  </joint>
  <joint name="intrgration_01" type="fixed">
    <origin rpy="0 0 0" xyz="-0.026 0.0 0.03125"/>
    <parent link="c_chest_c"/>
    <child link="c_chest_b"/>
  </joint>
  <joint name="intrgration_02" type="fixed">
    <origin rpy="0 0 0" xyz="0.026 0.0 0.03125"/>
    <parent link="c_chest_c"/>
    <child link="c_chest_a"/>
  </joint>
  <joint name="l_shoulder_pitch" type="revolute">
    <origin rpy="0 0 0" xyz="0.0115 0.0489 0.04775"/>
    <parent link="c_chest_c"/>
    <child link="l_shoulder"/>
    <axis xyz="-0.0 1.0 0.0"/>
    <limit effort="1.373" lower="-2.268928028" upper="2.268928028" velocity="10.0"/>
  </joint>
  <joint name="l_shoulder_roll" type="revolute">
    <origin rpy="0 0 0" xyz="0.01575 0.025 0.0"/>
    <parent link="l_shoulder"/>
    <child link="l_upperarm"/>
    <axis xyz="1.0 -0.0 0.0"/>
    <limit effort="1.373" lower="-0.0872664626" upper="3.141592654" velocity="10.0"/>
  </joint>
  <joint name="l_elbow_yaw" type="revolute">
    <origin rpy="0 0 0" xyz="-0.016 0.0 -0.07175"/>
    <parent link="l_upperarm"/>
    <child link="l_elbow"/>
    <axis xyz="-0.0 -0.0 1.0"/>
    <limit effort="1.373" lower="-1.5707963267948966" upper="1.5707963267948966" velocity="10.0"/>
  </joint>
  <joint name="l_elbow_pitch" type="revolute">
    <origin rpy="0 0 0" xyz="0.0115 0.01625 -0.0145"/>
    <parent link="l_elbow"/>
    <child link="l_lowerarm"/>
    <axis xyz="-0.0 1.0 0.0"/>
    <limit effort="1.373" lower="-2.094395102" upper="0.5235987756" velocity="10.0"/>
  </joint>
  <joint name="l_hipjoint_yaw" type="revolute">
    <origin rpy="0 0 0" xyz="0 0.02170 0"/>
    <parent link="base_link"/>
    <child link="l_hipjointupper"/>
    <axis xyz="-0.0 0.0 -1.0"/>
    <limit effort="1.373" lower="-0.3490658504" upper="0.3490658504" velocity="10.0"/>
  </joint>
  <joint name="l_hipjoint_roll" type="revolute">
    <origin rpy="0 0 0" xyz="0.0167 -0.004 -0.02275"/>
    <parent link="l_hipjointupper"/>
    <child link="l_hipjointlower"/>
    <axis xyz="1.0 0.0 -0.0"/>
    <limit effort="1.373" lower="-0.3490658504" upper="0.436332313" velocity="10.0"/>
  </joint>
  <joint name="l_hipjoint_pitch" type="revolute">
    <origin rpy="0 0 0" xyz="-0.01625 0.0275 -0.0395"/>
    <parent link="l_hipjointlower"/>
    <child link="l_upperleg"/>
    <axis xyz="-0.0 1.0 0.0"/>
    <limit effort="1.373" lower="-1.919862177" upper="1.745329252" velocity="10.0"/>
  </joint>
  <joint name="l_knee_pitch" type="revolute">
    <origin rpy="0 0 0" xyz="0.0 0.0 -0.065"/>
    <parent link="l_upperleg"/>
    <child link="l_lowerleg"/>
    <axis xyz="-0.0 1.0 0.0"/>
    <limit effort="1.373" lower="0.0" upper="2.792526803" velocity="10.0"/>
  </joint>
  <joint name="l_ankle_pitch" type="revolute">
    <origin rpy="0 0 0" xyz="-0.003363 0.0005 -0.064913"/>
    <parent link="l_lowerleg"/>
    <child link="l_ankle"/>
    <axis xyz="0.0 1.0 0.0"/>
    <limit effort="1.373" lower="-1.5707963267948966" upper="1.745329252" velocity="10.0"/>
  </joint>
  <joint name="l_ankle_roll" type="revolute">
    <origin rpy="0 0 0" xyz="0.01975 -0.028 -0.0395"/>
    <parent link="l_ankle"/>
    <child link="l_foot"/>
    <axis xyz="1.0 -0.0 -0.0"/>
    <limit effort="1.373" lower="-0.5235987756" upper="0.3490658504" velocity="10.0"/>
  </joint>
  <joint name="c_head_yaw" type="revolute">
    <origin rpy="0 0 0" xyz="0.0115 0.0 0.0595"/>
    <parent link="c_chest_c"/>
    <child link="c_head_a"/>
    <axis xyz="0.0 -0.0 1.0"/>
    <limit effort="1.373" lower="-1.5707963267948966" upper="1.5707963267948966" velocity="10.0"/>
  </joint>
  <joint name="r_shoulder_pitch" type="revolute">
    <origin rpy="0 0 0" xyz="0.0115 -0.0489 0.04775"/>
    <parent link="c_chest_c"/>
    <child link="r_shoulder"/>
    <axis xyz="0.0 -1.0 -0.0"/>
    <limit effort="1.373" lower="-2.268928028" upper="2.268928028" velocity="10.0"/>
  </joint>
  <joint name="r_shoulder_roll" type="revolute">
    <origin rpy="0 0 0" xyz="0.01575 -0.025 0.0"/>
    <parent link="r_shoulder"/>
    <child link="r_upperarm"/>
    <axis xyz="1.0 0.0 0.0"/>
    <limit effort="1.373" lower="-3.141592654" upper="0.0872664626" velocity="10.0"/>
  </joint>
  <joint name="r_elbow_yaw" type="revolute">
    <origin rpy="0 0 0" xyz="-0.016 0.0 -0.07175"/>
    <parent link="r_upperarm"/>
    <child link="r_elbow"/>
    <axis xyz="-0.0 0.0 1.0"/>
    <limit effort="1.373" lower="-1.5707963267948966" upper="1.5707963267948966" velocity="10.0"/>
  </joint>
  <joint name="r_elbow_pitch" type="revolute">
    <origin rpy="0 0 0" xyz="0.0115 -0.01625 -0.0145"/>
    <parent link="r_elbow"/>
    <child link="r_lowerarm"/>
    <axis xyz="-0.0 1.0 -0.0"/>
    <limit effort="1.373" lower="-2.094395102" upper="0.5235987756" velocity="10.0"/>
  </joint>
  <joint name="r_hipjoint_yaw" type="revolute">
    <origin rpy="0 0 0" xyz="0 -0.02170 0"/>
    <parent link="base_link"/>
    <child link="r_hipjointupper"/>
    <axis xyz="-0.0 0.0 -1.0"/>
    <limit effort="1.373" lower="-0.3490658504" upper="0.3490658504" velocity="10.0"/>
  </joint>
  <joint name="r_hipjoint_roll" type="revolute">
    <origin rpy="0 0 0" xyz="0.0167 0.004 -0.02275"/>
    <parent link="r_hipjointupper"/>
    <child link="r_hipjointlower"/>
    <axis xyz="1.0 0.0 0.0"/>
    <limit effort="1.373" lower="-0.436332313" upper="0.3490658504" velocity="10.0"/>
  </joint>
  <joint name="r_hipjoint_pitch" type="revolute">
    <origin rpy="0 0 0" xyz="-0.01625 -0.0275 -0.0395"/>
    <parent link="r_hipjointlower"/>
    <child link="r_upperleg"/>
    <axis xyz="0.0 -1.0 0.0"/>
    <limit effort="1.373" lower="-1.745329252" upper="1.919862177" velocity="10.0"/>
  </joint>
  <joint name="r_knee_pitch" type="revolute">
    <origin rpy="0 0 0" xyz="0.0 0.0 -0.065"/>
    <parent link="r_upperleg"/>
    <child link="r_lowerleg"/>
    <axis xyz="-0.0 1.0 -0.0"/>
    <limit effort="1.373" lower="0.0" upper="2.792526803" velocity="10.0"/>
  </joint>
  <joint name="r_ankle_pitch" type="revolute">
    <origin rpy="0 0 0" xyz="-0.003363 -0.0005 -0.064913"/>
    <parent link="r_lowerleg"/>
    <child link="r_ankle"/>
    <axis xyz="0.0 1.0 -0.0"/>
    <limit effort="1.373" lower="-1.5707963267948966" upper="1.745329252" velocity="10.0"/>
  </joint>
  <joint name="r_ankle_roll" type="revolute">
    <origin rpy="0 0 0" xyz="0.01975 0.028 -0.0395"/>
    <parent link="r_ankle"/>
    <child link="r_foot"/>
    <axis xyz="1.0 0.0 0.0"/>
    <limit effort="1.373" lower="-0.3490658504" upper="0.5235987756" velocity="10.0"/>
  </joint>
</robot>
